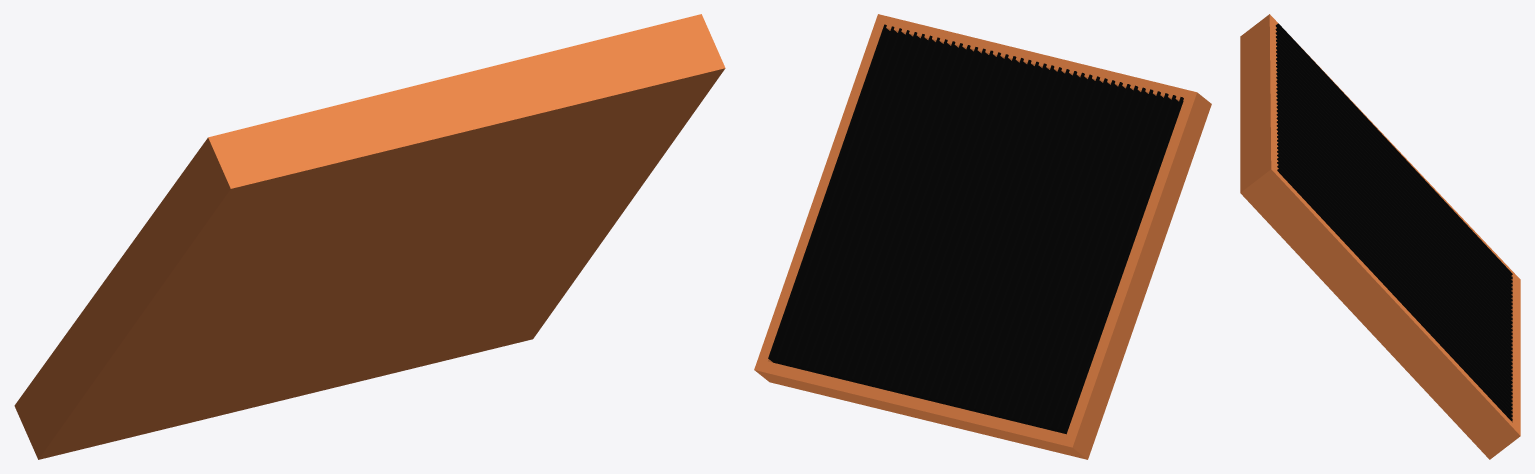
The model's file is airVent[small][BOTTOM].fbx.
3 renders of one model, left to right at view 1: azimuth 30°, elevation 25°; view 2: azimuth 150°, elevation 25°; view 3: azimuth 270°, elevation 25°, orthographic. The views are drawn at different scales.
Parts seen in each view (by area): view 1: VentAir0[small][BOTTOM]; view 2: VentAir0[small][BOTTOM]; view 3: VentAir0[small][BOTTOM].
Part boxes in pixels (x1,y1,x2,y2): VentAir0[small][BOTTOM]: (14, 14, 725, 459); VentAir0[small][BOTTOM]: (754, 14, 1211, 459); VentAir0[small][BOTTOM]: (1240, 14, 1520, 459).
Bounding box in the file's own units: 146 × 127 × 111.
